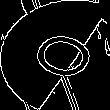O_SE: (13, 24, 97, 86)
